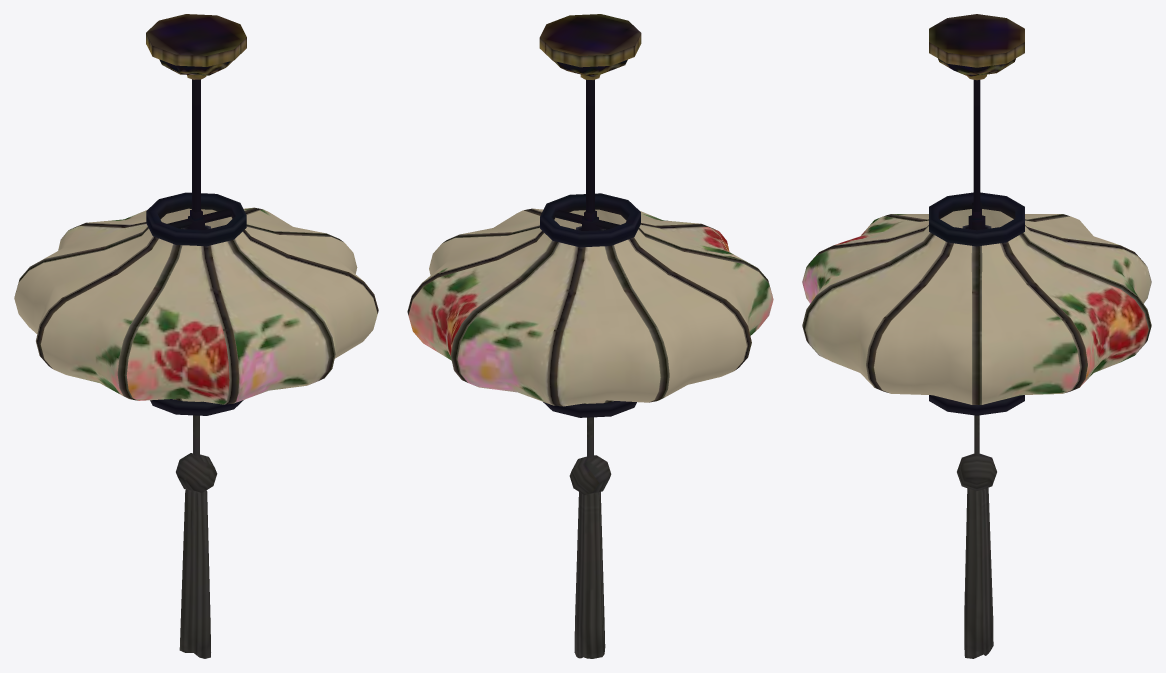
The picture shows the model from 3 angles, left to right: view 1: azimuth 30°, elevation 25°; view 2: azimuth 150°, elevation 25°; view 3: azimuth 270°, elevation 25°; orthographic projection.
Bounding box in the file's own units: 9.52 × 17.82 × 9.13.
Materials: 1 (1 with a texture image).
